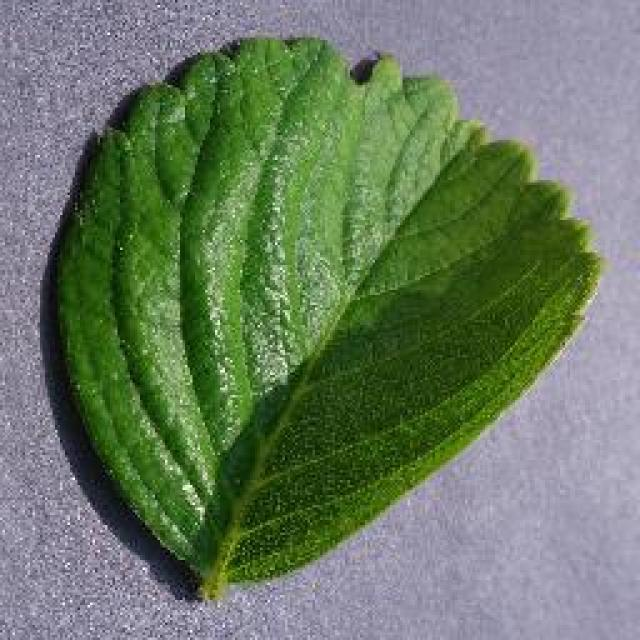Straw_healthy: (87, 47, 512, 482)
